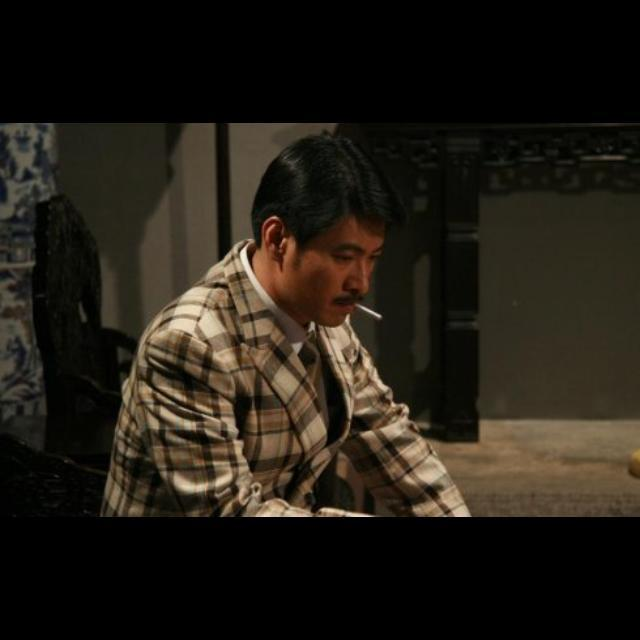rokok: (356, 299, 384, 323)
